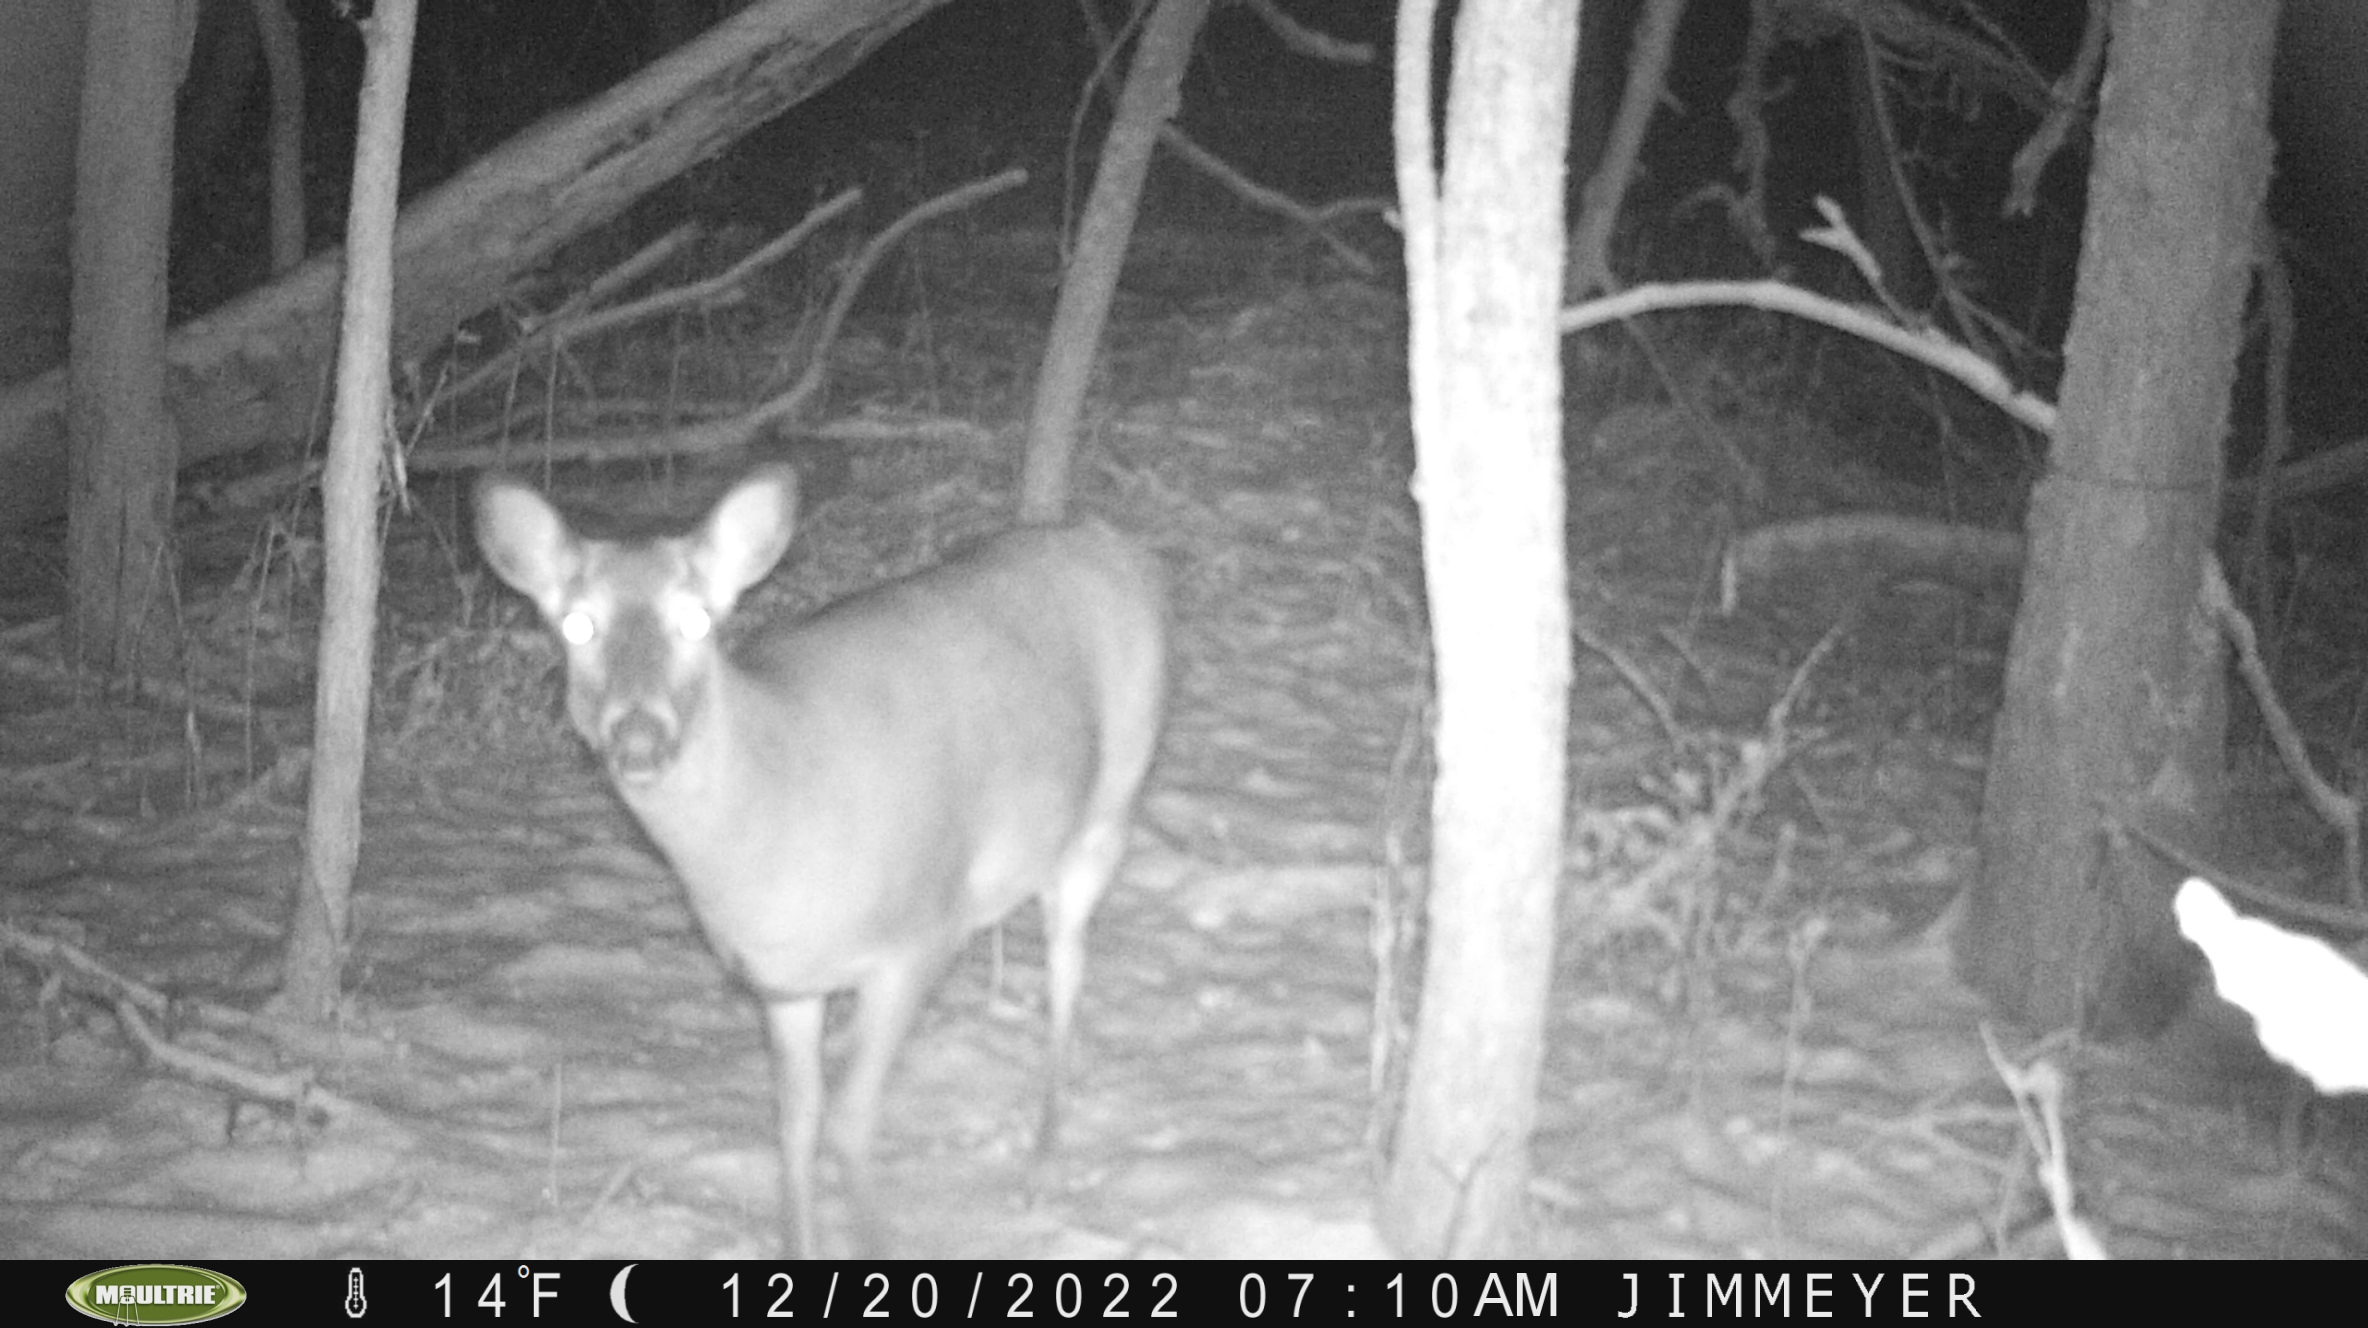DeerDoe: (464, 454, 1176, 1256)
